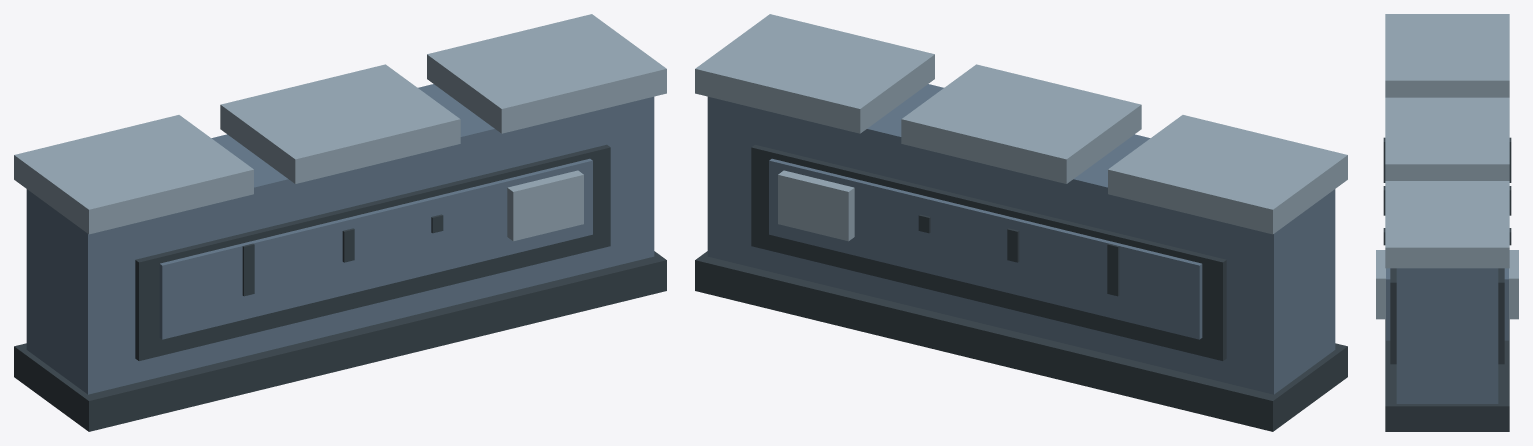
The model's file is archive_wall_variant.glb.
3 views of the same model, side by side, from view 1: azimuth 30°, elevation 25°; view 2: azimuth 150°, elevation 25°; view 3: azimuth 270°, elevation 25° (orthographic). The views are drawn at different scales.
Visible parts, largest first — view 1: archive_wall_variant; view 2: archive_wall_variant; view 3: archive_wall_variant.
Boxes of the visible parts, box(x1,y1,x2,y2) form: archive_wall_variant: box(14, 14, 666, 431); archive_wall_variant: box(695, 14, 1347, 431); archive_wall_variant: box(1376, 14, 1518, 431).
Size of the model in its own units: 1.96 by 0.72 by 0.506.
